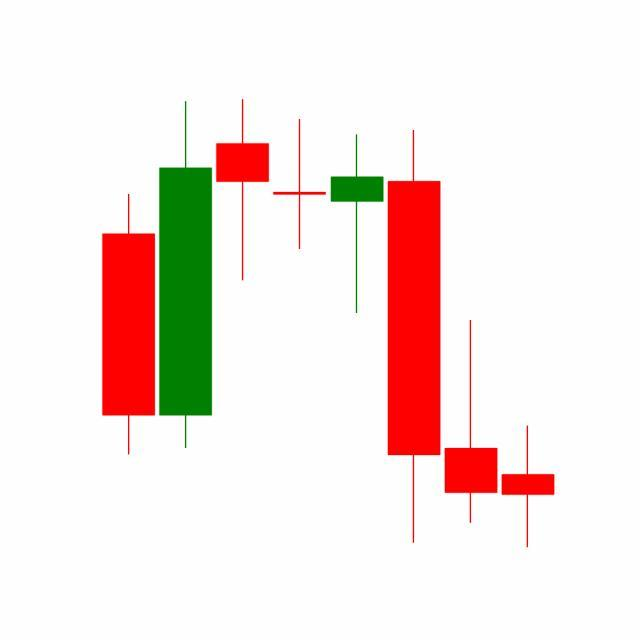Hikkake Pattern: (270, 115, 555, 549)
